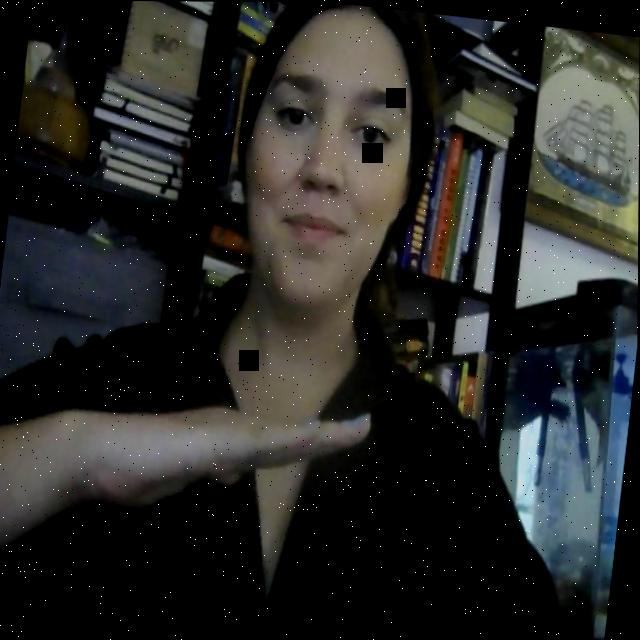Paper: (59, 362, 377, 556)
